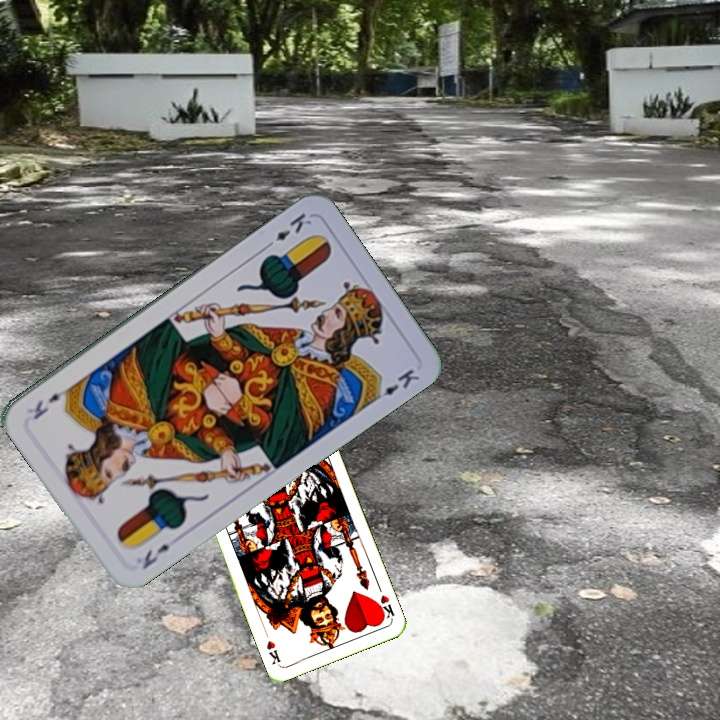EK: (261, 208, 315, 252), (138, 540, 173, 573)
HK: (373, 583, 397, 622)
